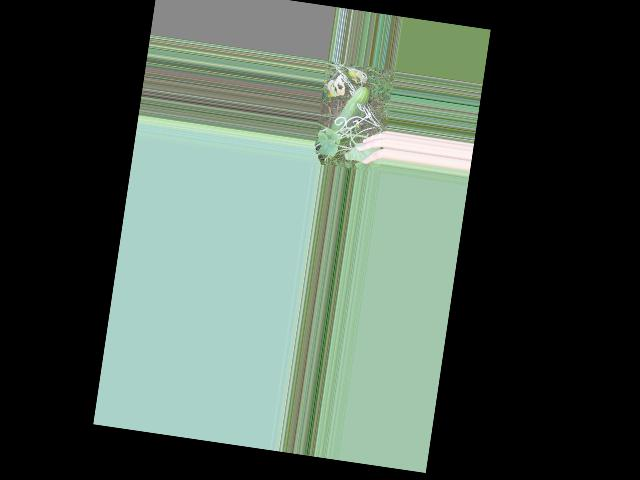cucumber: (330, 83, 370, 136)
